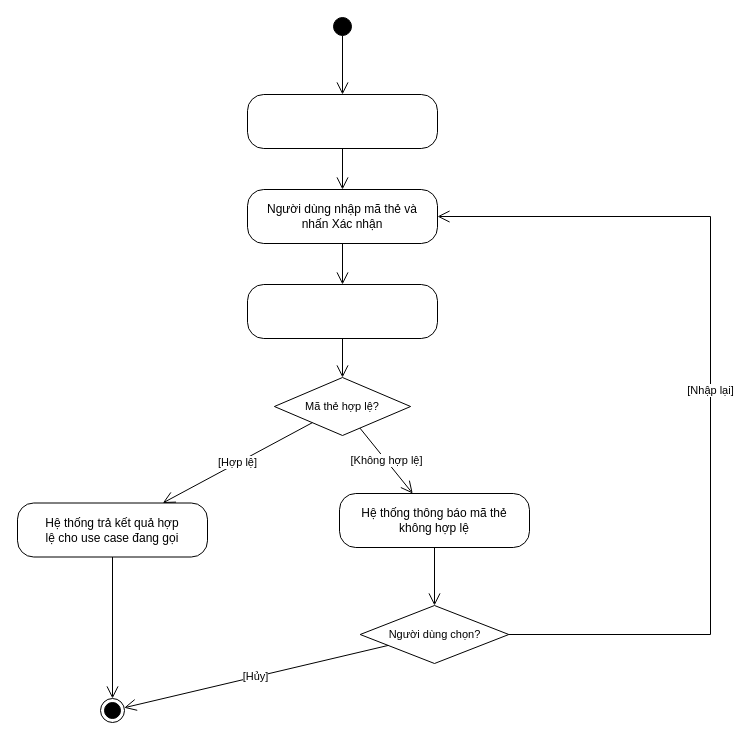
Image size: 751x740. Some labels were removed from this diagram. The shapes that lost their labels are listed below. From the top down, each one's box as (x1, y1, x2, y2) in pixels, then its label:
(246, 94, 438, 148): Hệ thống hiển thị form nhập mã thẻ
(246, 284, 438, 338): Hệ thống kiểm tra mã thẻ trong cơ sở dữ liệu
